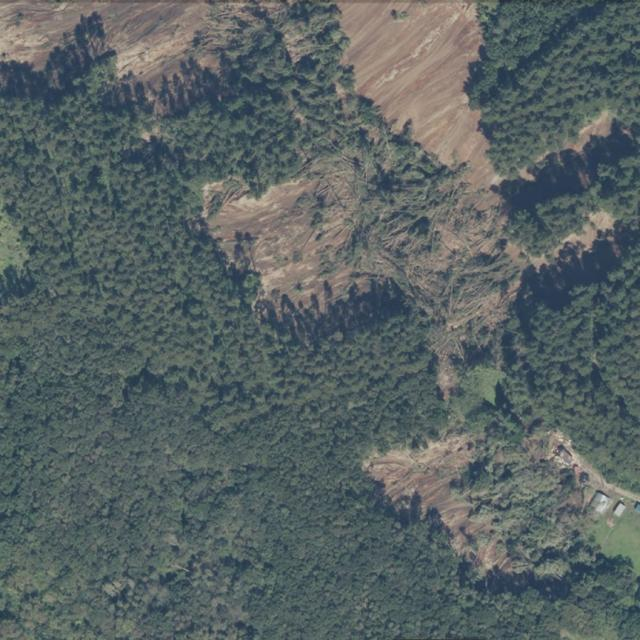landslide: (204, 139, 520, 387), (334, 0, 499, 189), (364, 435, 514, 575), (204, 177, 364, 305), (0, 0, 220, 82), (359, 2, 481, 135), (565, 211, 616, 249)
